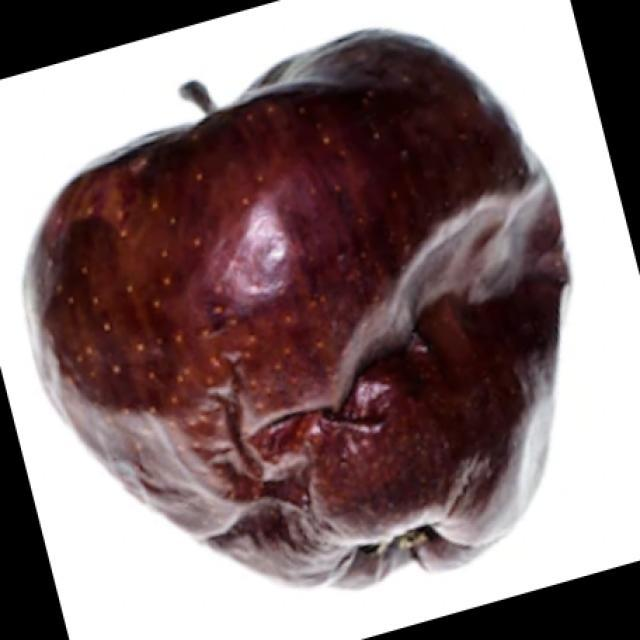Rotten: (0, 26, 566, 583)
